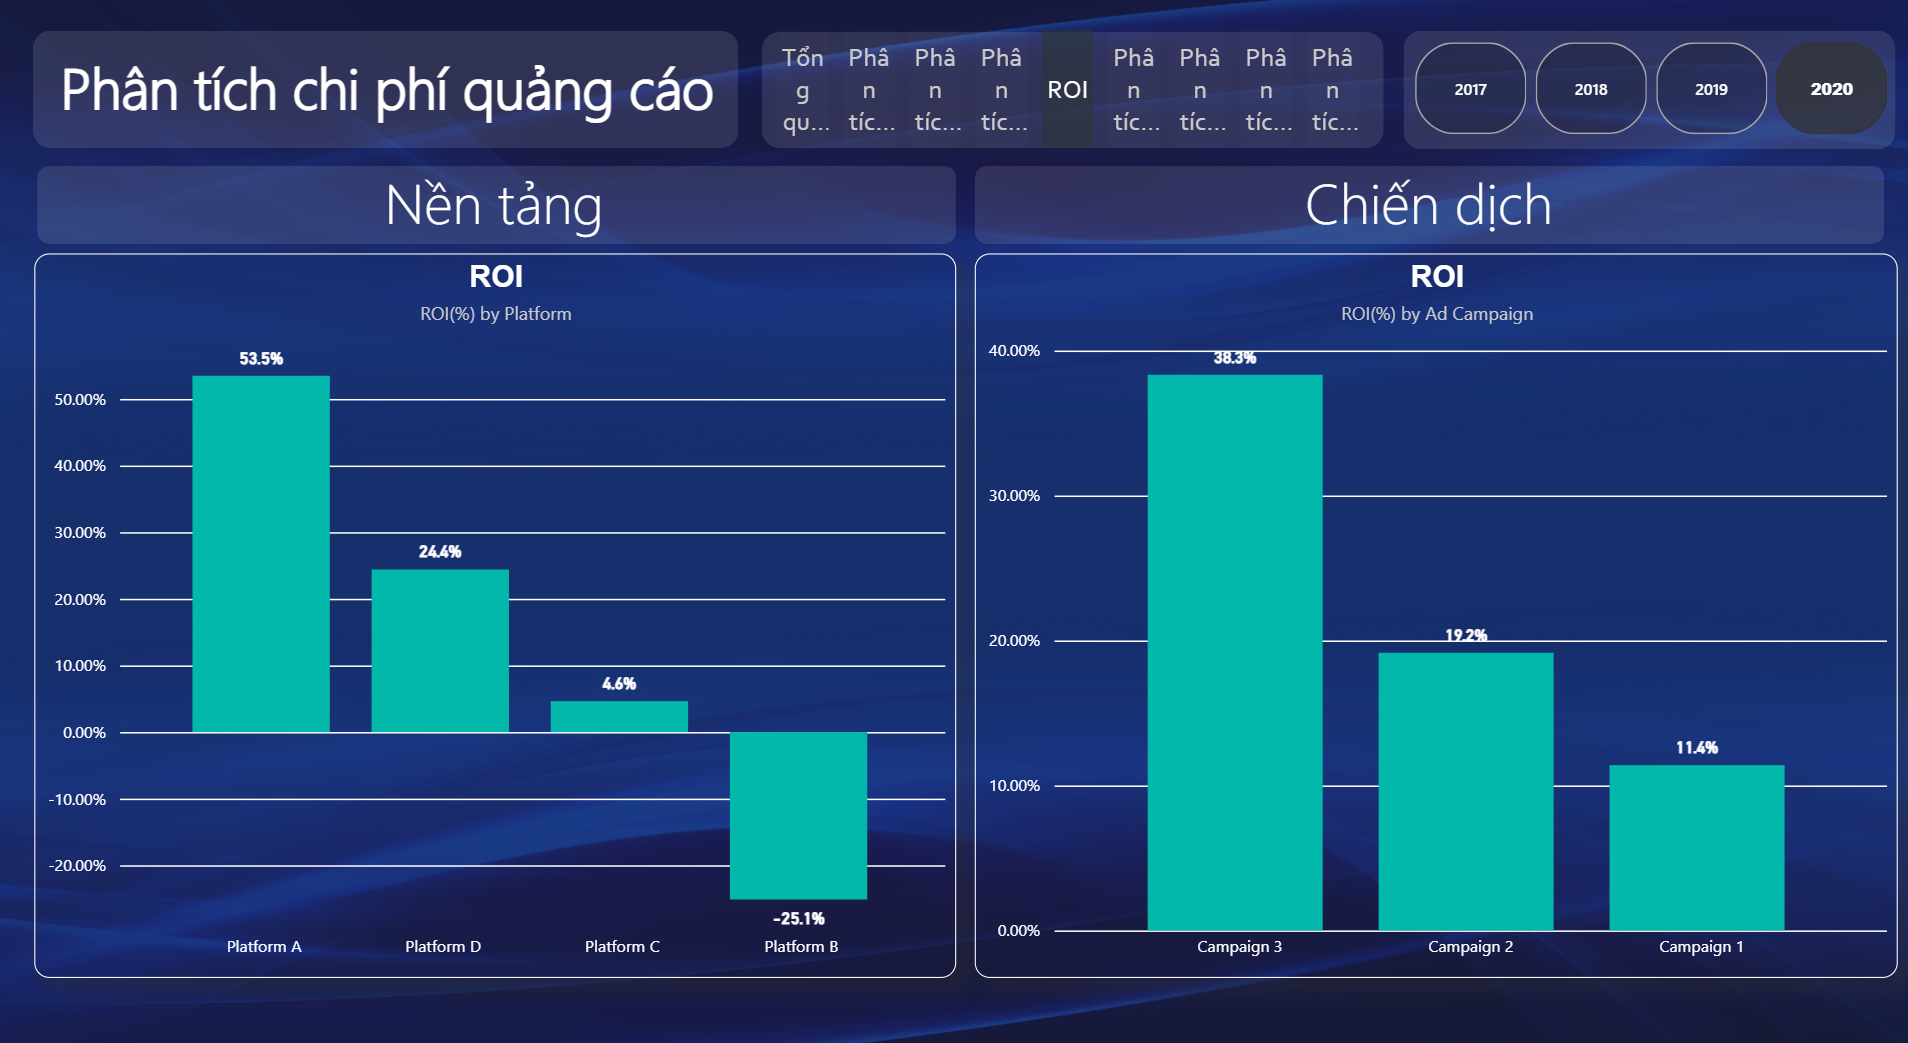

The page's visual inventory and layout, read from the dashboard file:
{"tool":"powerbi","page":{"name":"ROI","canvas":[1280,720],"ordinal":4},"visuals":[{"type":"shape","box":[27.5,24.8,469.1,78],"z":0},{"type":"textbox","box":[29.3,31,467.3,64.7],"z":1000},{"type":"shape","box":[511.6,24.9,413.3,77.2],"z":2000},{"type":"pageNavigator","box":[522.1,23.9,392.1,79.3],"z":3000},{"type":"shape","box":[938.3,24.1,327.2,78.8],"z":4000},{"type":"advancedSlicerVisual","fields":{"Values":["Calender.Year"]},"box":[940.7,27.6,325.5,71.9],"z":5000},{"type":"clusteredColumnChart","title":"ROI","fields":{"Category":["Data.Platform"],"Y":["All Measures.ROI(%)"]},"box":[28.4,172.9,612.7,481.5],"z":6000},{"type":"textbox","box":[93,107.8,482,64.5],"z":7000},{"type":"textbox","box":[714.5,107.8,482,64.5],"z":8000},{"type":"shape","box":[29.6,114.2,610.9,51.8],"z":9000},{"type":"shape","box":[653.2,114.2,604.6,51.8],"z":10000},{"type":"clusteredColumnChart","title":"ROI","fields":{"Category":["Data.Ad Campaign"],"Y":["All Measures.ROI(%)"]},"box":[653.5,172.9,613.6,481.5],"z":11000}]}

Visuals, with their boxes in screenshot pixels (x1, y1, x2, y2), scaled from the page's 1280x720 canvas onto the 1908x1043 screenshot:
shape: select_region(41, 36, 740, 149)
textbox: select_region(44, 45, 740, 139)
shape: select_region(763, 36, 1379, 148)
pageNavigator: select_region(778, 35, 1363, 149)
shape: select_region(1399, 35, 1886, 149)
advancedSlicerVisual - Calender.Year: select_region(1402, 40, 1887, 144)
"ROI" clusteredColumnChart: select_region(42, 250, 956, 948)
textbox: select_region(139, 156, 857, 250)
textbox: select_region(1065, 156, 1784, 250)
shape: select_region(44, 165, 955, 240)
shape: select_region(974, 165, 1875, 240)
"ROI" clusteredColumnChart: select_region(974, 250, 1889, 948)
